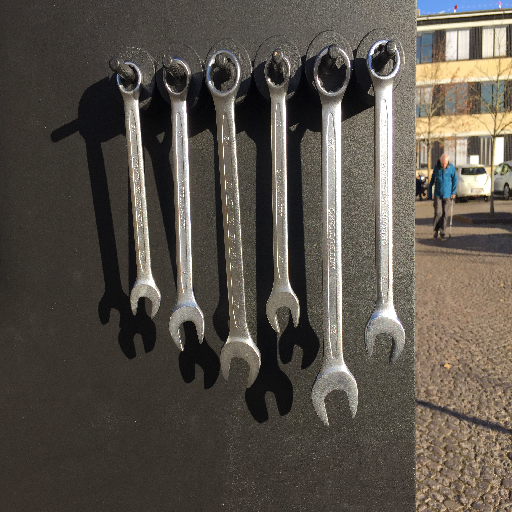bottom: (309, 365, 362, 427), (218, 336, 263, 391), (363, 311, 408, 365), (167, 301, 207, 355), (262, 289, 301, 335), (128, 281, 163, 321)
top: (311, 43, 353, 103), (203, 48, 245, 101), (364, 38, 404, 86), (160, 55, 195, 99), (113, 59, 147, 99), (262, 52, 294, 94)
